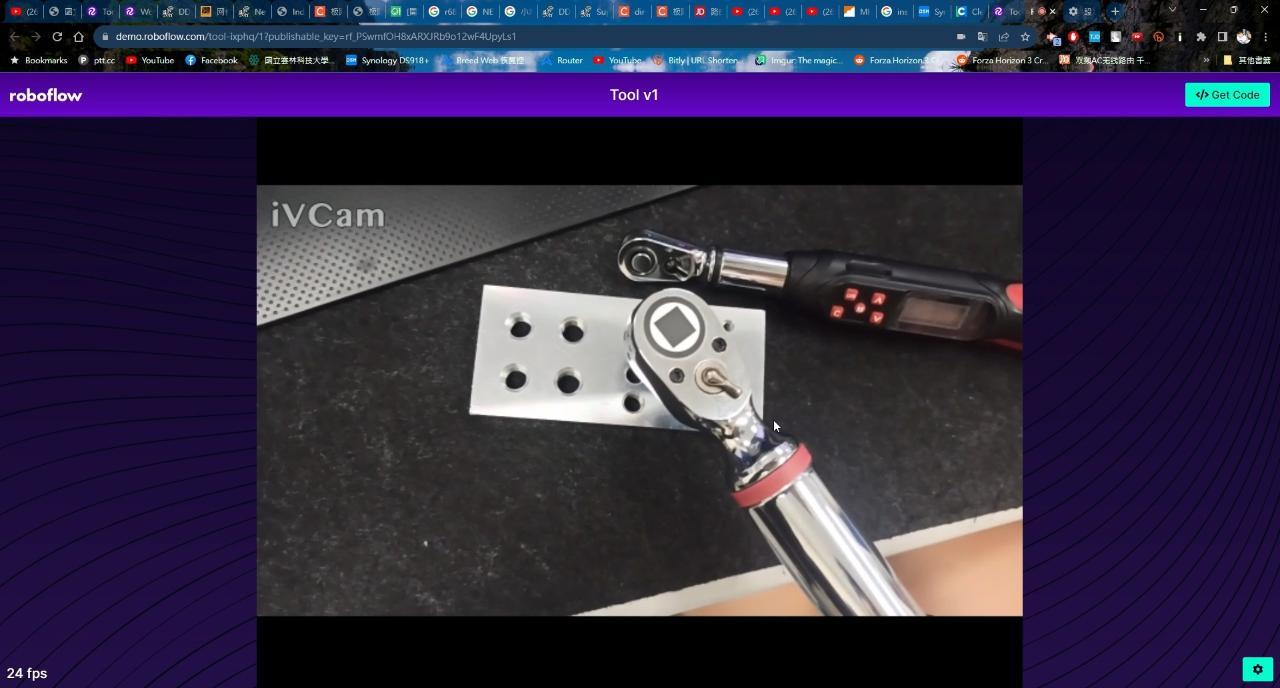Tool: (628, 288, 760, 444), (617, 230, 705, 290)
hole: (495, 309, 545, 341), (553, 316, 600, 347), (497, 362, 543, 392), (550, 366, 595, 394), (618, 388, 659, 416), (616, 362, 657, 388)
